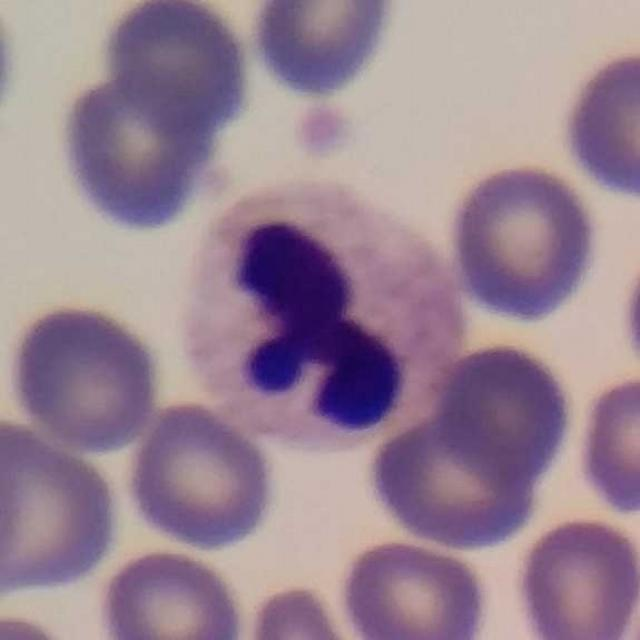Neutrophil: (162, 168, 471, 464)
Platelets: (290, 99, 360, 163)
RBC: (50, 64, 237, 238), (360, 393, 558, 553), (442, 158, 604, 326), (2, 298, 166, 457), (122, 398, 280, 554), (1, 412, 125, 601), (430, 337, 580, 489), (96, 0, 258, 137), (243, 0, 410, 106), (335, 536, 493, 640), (511, 513, 639, 640), (94, 545, 250, 640), (555, 43, 640, 204), (573, 373, 640, 517), (238, 579, 365, 640), (0, 606, 84, 640)
